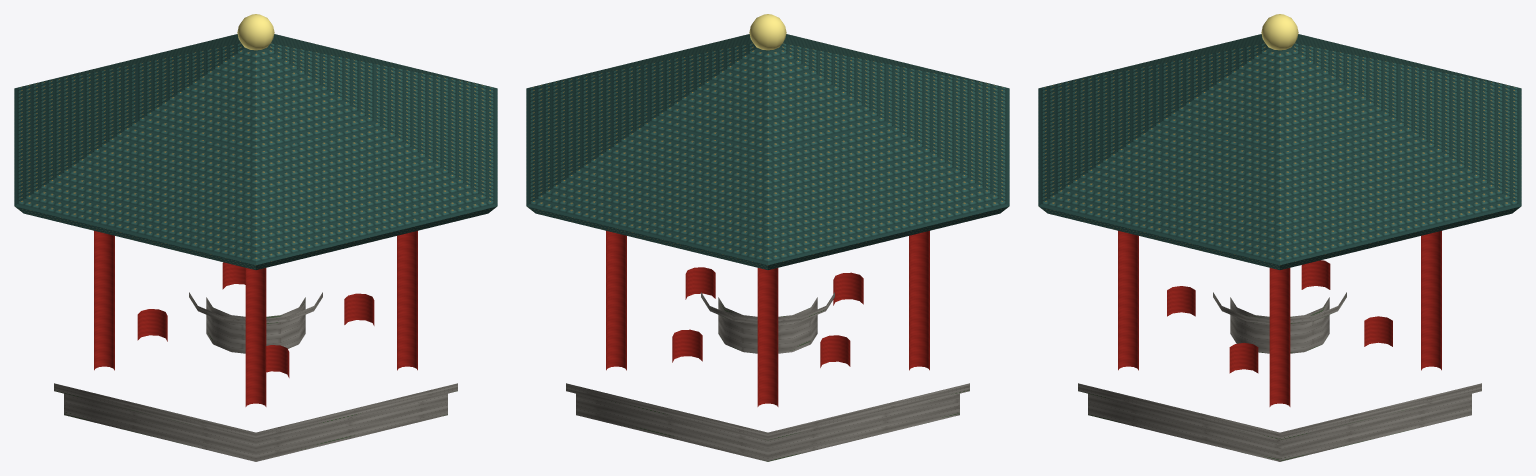
The model's file is asian_tea_pavilion.glb.
3 views of the same model, side by side, from view 1: azimuth 30°, elevation 25°; view 2: azimuth 150°, elevation 25°; view 3: azimuth 270°, elevation 25° (orthographic).
Visible parts, largest first — view 1: ModelRoot; view 2: ModelRoot; view 3: ModelRoot.
Boxes of the visible parts, x1,y1,x2,y2 form: ModelRoot: (14, 14, 497, 461); ModelRoot: (526, 14, 1009, 461); ModelRoot: (1038, 14, 1521, 461).
Bounding box in the file's own units: 9.57 × 6.67 × 8.29.
4 materials, 3 textured.
